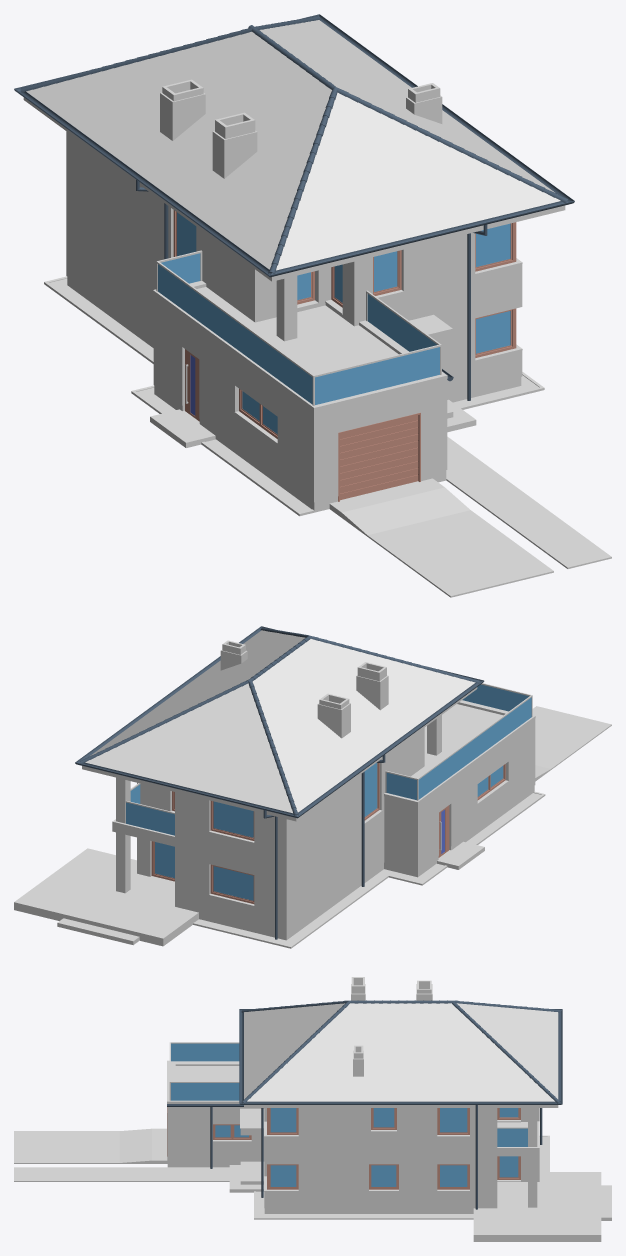
File: 3D_House_02.fbx
3 views of the same model, one above another, from view 1: azimuth 30°, elevation 25°; view 2: azimuth 150°, elevation 25°; view 3: azimuth 270°, elevation 25° (orthographic). The views are drawn at different scales.
Parts seen in each view (by area): view 1: roof, wall_exterior, around_house, barrels.001, window.018, gutters, roof.001, chimney, garage_door, cover_roof.005, soffit, cover_roof (+4 smaller); view 2: roof, wall_exterior, terrace.001, around_house, window.018, barrels.001, gutters, chimney, cover_roof.005, roof.001, wall_exterior.001, soffit (+4 smaller); view 3: roof, wall_exterior, around_house, terrace.001, window.018, gutters, barrels.001, cover_roof.005, chimney, terrace, roof.001, soffit (+4 smaller).
Boxes of the visible parts, <box> form: roof: <box>26,20,560,270</box>; wall_exterior: <box>66,131,522,512</box>; around_house: <box>44,276,611,597</box>; barrels.001: <box>156,250,441,405</box>; window.018: <box>173,210,522,444</box>; gutters: <box>14,14,574,400</box>; roof.001: <box>197,287,398,374</box>; chimney: <box>160,79,442,178</box>; garage_door: <box>340,415,418,500</box>; cover_roof.005: <box>20,16,568,273</box>; soffit: <box>23,97,565,281</box>; cover_roof: <box>153,281,447,410</box>; roof: <box>85,630,475,813</box>; wall_exterior: <box>112,719,535,940</box>; terrace.001: <box>14,848,198,946</box>; around_house: <box>193,706,611,948</box>; window.018: <box>151,763,508,906</box>; barrels.001: <box>385,683,532,800</box>; gutters: <box>75,626,484,939</box>; chimney: <box>220,640,388,738</box>; cover_roof.005: <box>80,627,479,815</box>; roof.001: <box>411,704,502,778</box>; wall_exterior.001: <box>116,715,441,893</box>; soffit: <box>82,687,477,821</box>; roof: <box>244,1003,558,1101</box>; wall_exterior: <box>167,1103,539,1213</box>; around_house: <box>14,1128,549,1219</box>; terrace.001: <box>473,1172,611,1241</box>; window.018: <box>213,1108,520,1191</box>; gutters: <box>167,1009,562,1209</box>; barrels.001: <box>169,1042,239,1100</box>; cover_roof.005: <box>241,1000,560,1103</box>; chimney: <box>351,977,432,1076</box>; terrace: <box>229,1161,264,1192</box>; roof.001: <box>175,1066,239,1081</box>; soffit: <box>244,1105,558,1107</box>.
Size of what is drawn, in the model's own units: 1358 by 909 by 2772.
